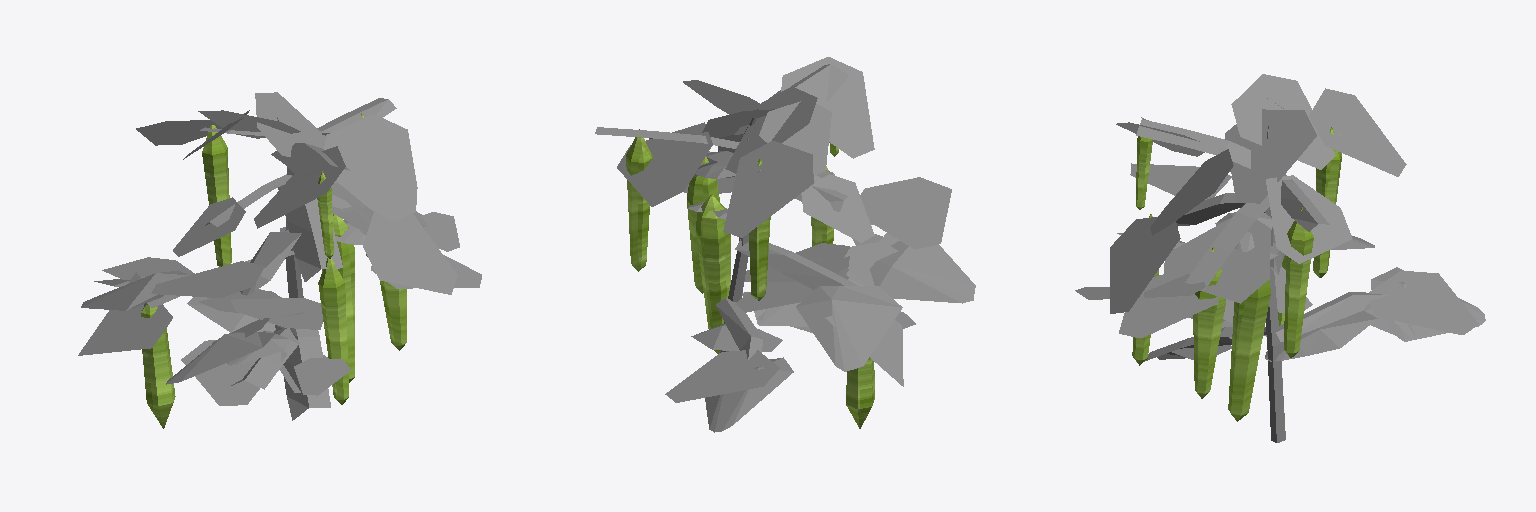
The picture shows the model from 3 angles: view 1: azimuth 30°, elevation 25°; view 2: azimuth 150°, elevation 25°; view 3: azimuth 270°, elevation 25°; orthographic projection.
Parts seen in each view (by area): view 1: Default_Layer; view 2: Default_Layer; view 3: Default_Layer.
Part boxes in pixels (left/top/right/bottom): Default_Layer: left=78, top=92, right=481, bottom=428; Default_Layer: left=595, top=57, right=975, bottom=432; Default_Layer: left=1075, top=74, right=1485, bottom=442.
Bounding box in the file's own units: 2020 × 1991 × 2291.
Materials: 3 (1 with a texture image).